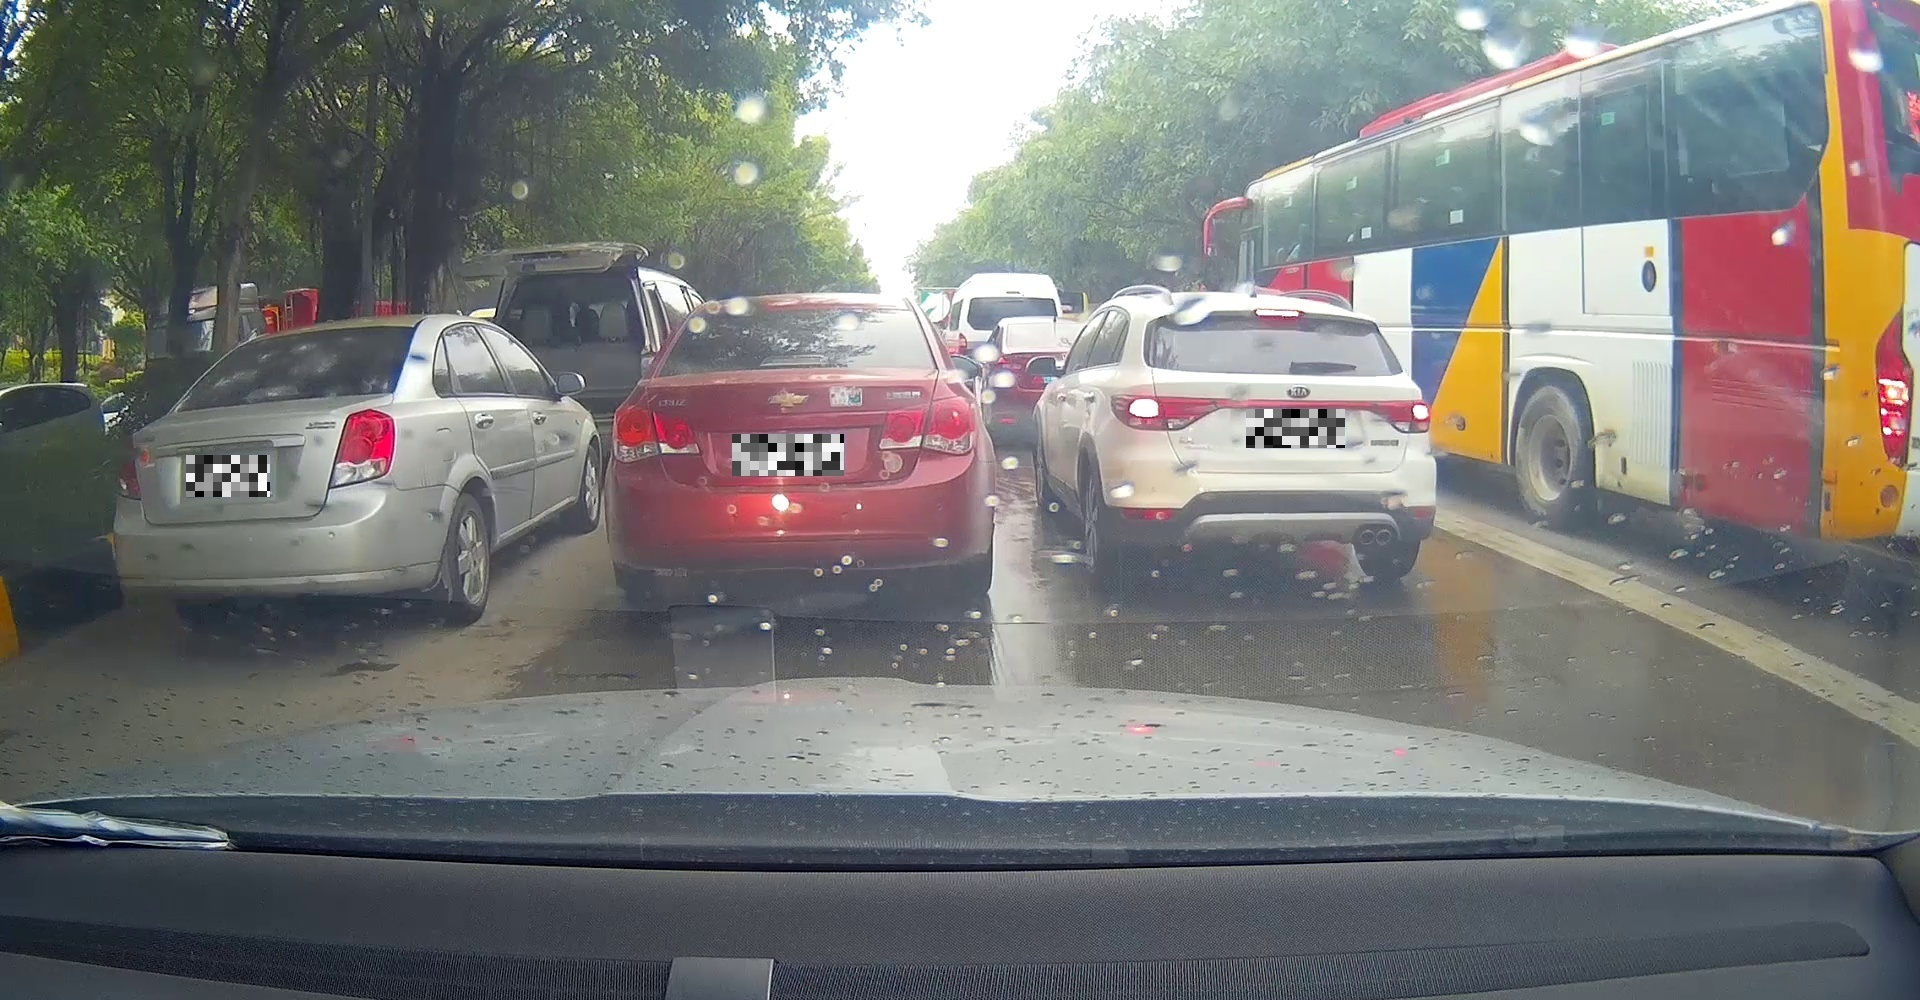L_light: (610, 404, 701, 463), (1109, 393, 1220, 430), (116, 434, 143, 501)
R_light: (877, 393, 975, 456), (329, 409, 395, 489), (1370, 398, 1430, 434)
T_light: (758, 353, 832, 368), (245, 385, 300, 398), (1255, 308, 1302, 319)
day-brake: (1098, 292, 1437, 579)
day-no: (603, 292, 996, 608), (110, 313, 432, 628)
plate_1: (185, 456, 270, 497)
plate_2: (731, 434, 844, 476)
plate_3: (1246, 409, 1345, 448)
